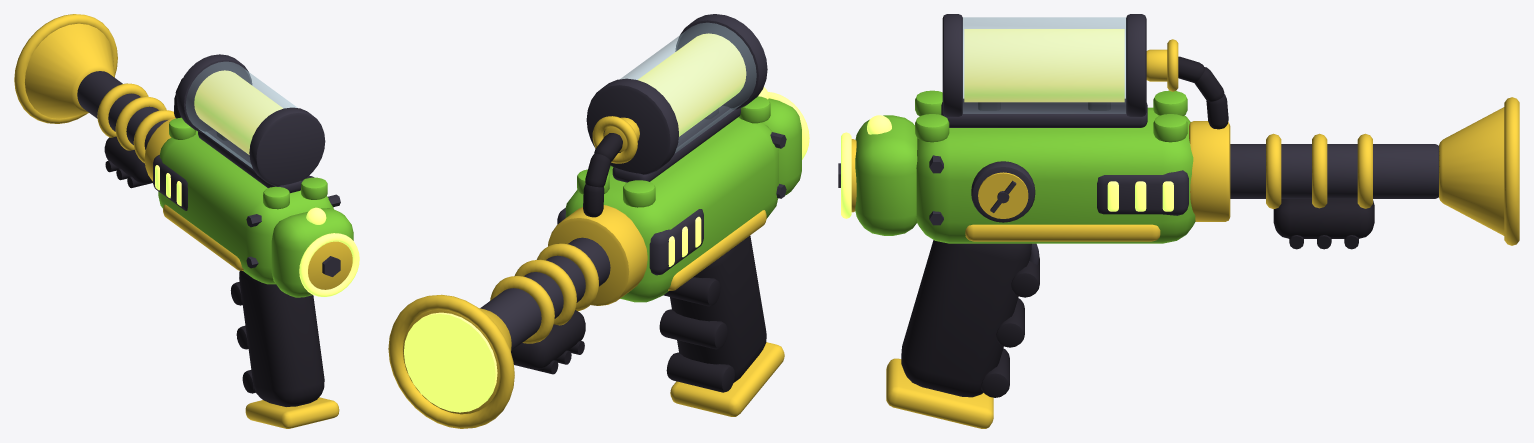
Rendered from GasBlaster.fbx.
3 renders of one model, left to right at view 1: azimuth 30°, elevation 25°; view 2: azimuth 150°, elevation 25°; view 3: azimuth 270°, elevation 25°, orthographic. The views are drawn at different scales.
Parts seen in each view (by area): view 1: Trim, Body, Metal, Grip, Gas, Glass, Pump; view 2: Trim, Body, Metal, Gas, Grip, Glass, Pump; view 3: Body, Trim, Metal, Grip, Glass, Gas, Pump.
Part boxes in pixels (x1=…): Trim: x1=14, y1=14, x2=352, y2=428; Body: x1=158, y1=117, x2=353, y2=297; Metal: x1=77, y1=54, x2=340, y2=276; Grip: x1=174, y1=78, x2=324, y2=406; Gas: x1=155, y1=70, x2=359, y2=296; Glass: x1=186, y1=62, x2=297, y2=168; Pump: x1=104, y1=136, x2=152, y2=188; Trim: x1=388, y1=116, x2=784, y2=428; Body: x1=565, y1=96, x2=801, y2=302; Metal: x1=480, y1=14, x2=786, y2=350; Gas: x1=404, y1=33, x2=809, y2=412; Grip: x1=583, y1=133, x2=766, y2=392; Glass: x1=620, y1=23, x2=756, y2=152; Pump: x1=511, y1=310, x2=585, y2=374; Body: x1=855, y1=90, x2=1195, y2=243; Trim: x1=851, y1=39, x2=1519, y2=428; Metal: x1=838, y1=14, x2=1438, y2=265; Grip: x1=901, y1=56, x2=1228, y2=397; Glass: x1=963, y1=17, x2=1125, y2=113; Gas: x1=841, y1=29, x2=1173, y2=218; Pump: x1=1273, y1=199, x2=1374, y2=249.
Bounding box in the file's own units: 0.663 × 1.91 × 2.97.
